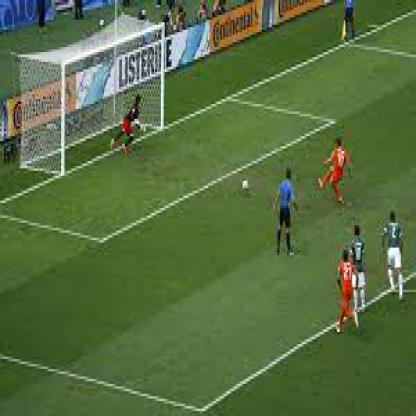penalty kick: (14, 36, 373, 241)
